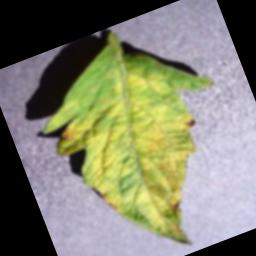Leaf_Mold: (21, 13, 256, 256)
